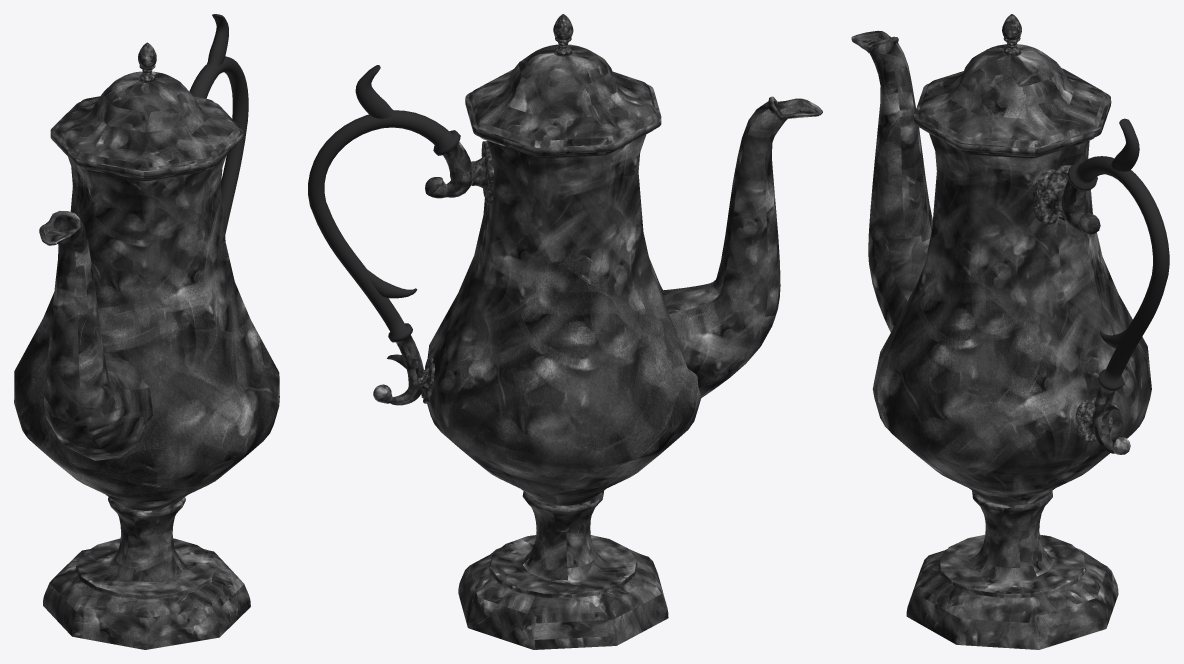
The model's file is Antique coffee pot.glb.
3 renders of one model, left to right at view 1: azimuth 30°, elevation 25°; view 2: azimuth 150°, elevation 25°; view 3: azimuth 270°, elevation 25°, orthographic. The views are drawn at different scales.
Visible parts, largest first — view 1: Urn, Base.001, Spout, Handle; view 2: Urn, Base.001, Spout, Handle, Handle_Attach_Top; view 3: Urn, Base.001, Spout, Handle, Handle_Attach_Top, Handle_Attach_Bottom.
Boxes of the visible parts, x1,y1,x2,y2 form: Urn: (14,42,279,510); Base.001: (43,497,250,649); Spout: (39,211,152,460); Handle: (189,14,248,235); Urn: (427,14,701,505); Base.001: (458,491,668,649); Spout: (662,96,822,397); Handle: (308,65,472,405); Handle_Attach_Top: (471,141,493,204); Urn: (872,14,1151,505); Base.001: (906,491,1118,649); Spout: (851,30,932,332); Handle: (1061,118,1169,454); Handle_Attach_Top: (1033,165,1071,224); Handle_Attach_Bottom: (1075,397,1112,441).
Size of the model in its own units: 0.2831 by 0.4399 by 0.2146.
Materials: 2 (1 with a texture image).
